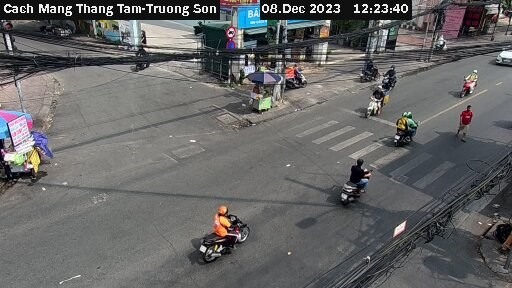car: (493, 40, 512, 68)
motorbike: (190, 204, 256, 262), (334, 157, 384, 209), (359, 86, 402, 125), (390, 110, 435, 147), (451, 65, 482, 101), (278, 65, 314, 92), (376, 66, 408, 93), (352, 59, 384, 82)
